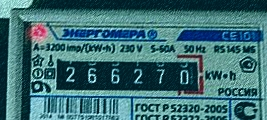0: (175, 66, 187, 83)
2: (60, 63, 73, 81), (129, 65, 140, 83)
6: (83, 64, 95, 82), (106, 65, 118, 83)
7: (152, 65, 163, 83)
screen: (43, 47, 206, 99)
